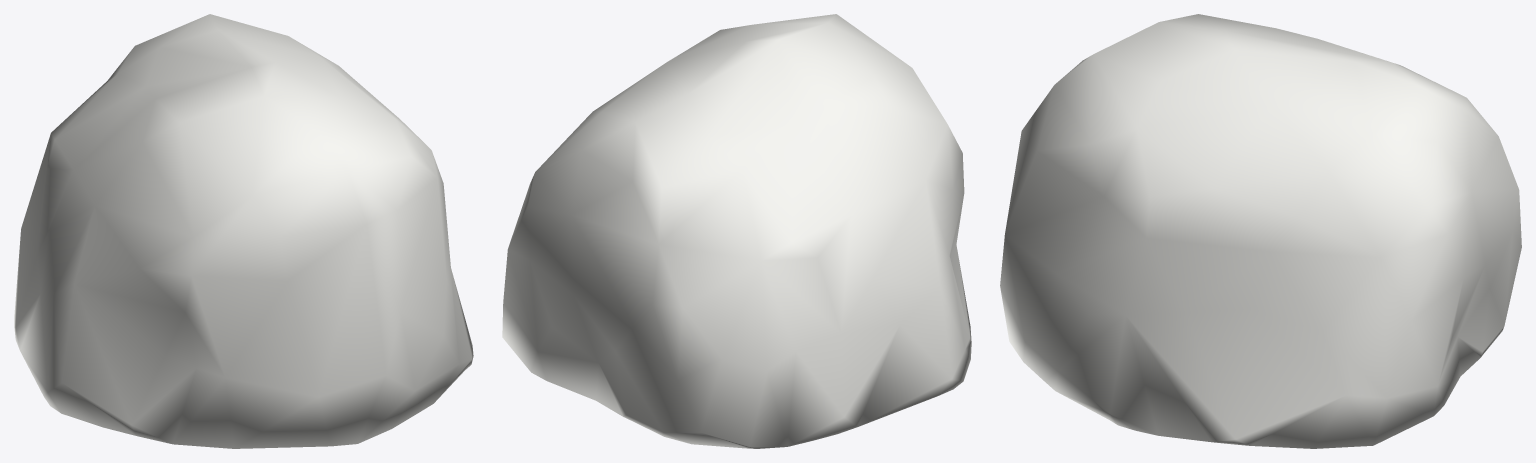
The model's file is monte_neve_natal_2_pacote.glb.
3 renders of one model, left to right at view 1: azimuth 30°, elevation 25°; view 2: azimuth 150°, elevation 25°; view 3: azimuth 270°, elevation 25°, orthographic. The views are drawn at different scales.
Parts seen in each view (by area): view 1: monte_neve_natal_2_pacote; view 2: monte_neve_natal_2_pacote; view 3: monte_neve_natal_2_pacote.
Part boxes in pixels (x1,y1,x2,y2): monte_neve_natal_2_pacote: (14, 14, 473, 448); monte_neve_natal_2_pacote: (502, 14, 971, 448); monte_neve_natal_2_pacote: (1000, 14, 1521, 448).
Size of the model in its own units: 0.7539 by 0.5344 by 0.8149.
1 material, 1 textured.
